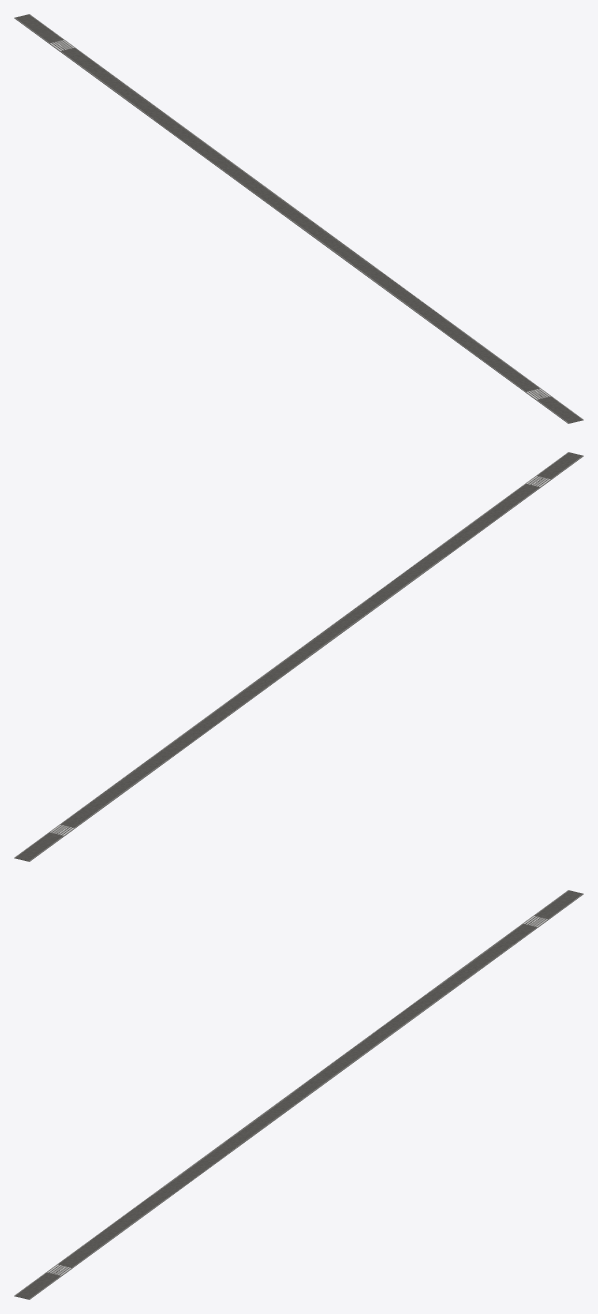
The model's file is Runway.glb.
3 views of the same model, one above another, from view 1: azimuth 30°, elevation 25°; view 2: azimuth 150°, elevation 25°; view 3: azimuth 330°, elevation 25° (orthographic).
Parts seen in each view (by area): view 1: Runway; view 2: Runway; view 3: Runway.
Boxes of the visible parts, box(x1,y1,x2,y2) form: Runway: box(14, 14, 583, 423); Runway: box(14, 452, 583, 861); Runway: box(14, 890, 583, 1299).
Size of what is drawn, in the model's own units: 2 by 0.0333 by 123.
1 material, 1 textured.
